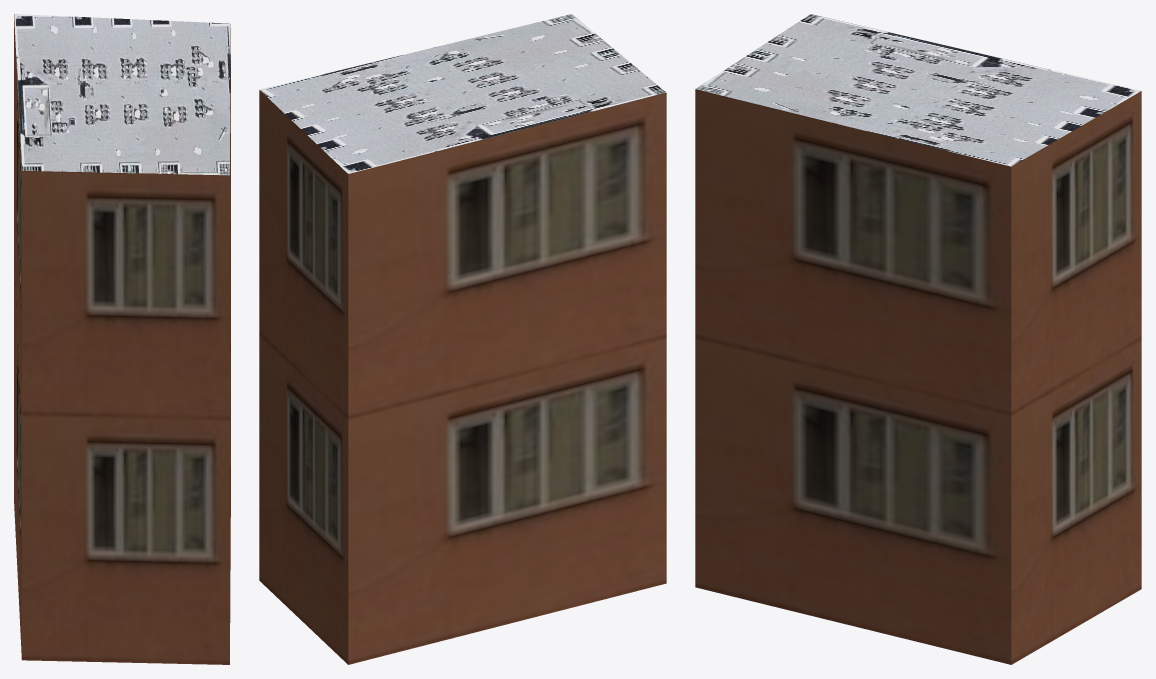
Rendered from ResTex__730.fbx.
3 views of the same model, side by side, from view 1: azimuth 30°, elevation 25°; view 2: azimuth 150°, elevation 25°; view 3: azimuth 270°, elevation 25° (orthographic).
Visible parts, largest first — view 1: CityEngineMaterial_20_m, CityEngineMaterial_4_m; view 2: CityEngineMaterial_20_m, CityEngineMaterial_4_m; view 3: CityEngineMaterial_20_m, CityEngineMaterial_4_m.
Part boxes in pixels (<box>): CityEngineMaterial_20_m: <box>14,15,230,664</box>; CityEngineMaterial_4_m: <box>14,14,230,175</box>; CityEngineMaterial_20_m: <box>259,90,666,664</box>; CityEngineMaterial_4_m: <box>259,14,665,173</box>; CityEngineMaterial_20_m: <box>695,89,1141,664</box>; CityEngineMaterial_4_m: <box>695,14,1140,166</box>.
Bounding box in the file's own units: 3.95 × 6 × 4.87.
2 materials, 2 textured.
